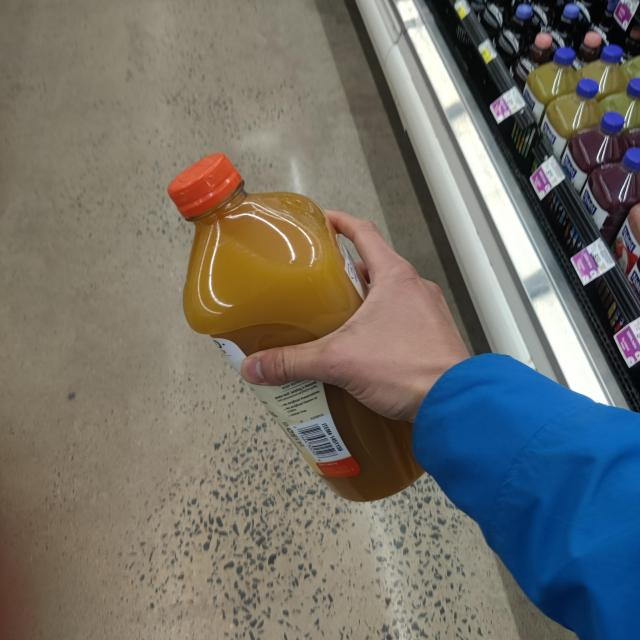Juice: (150, 149, 429, 517)
